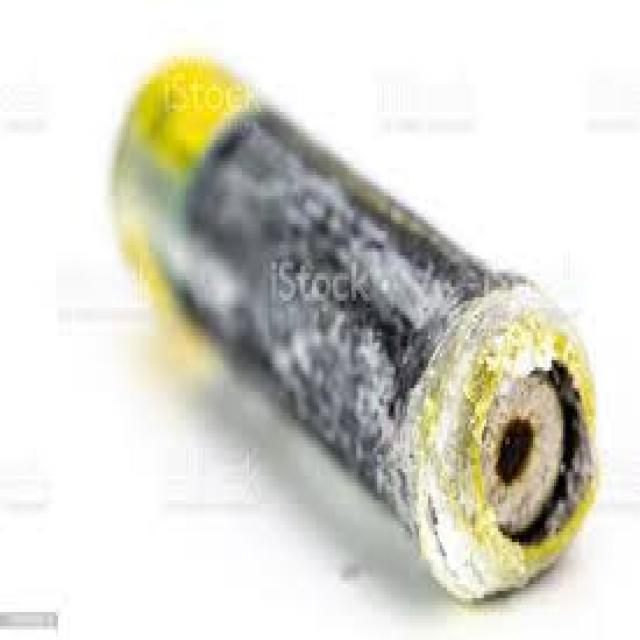battery: (108, 57, 606, 618)
